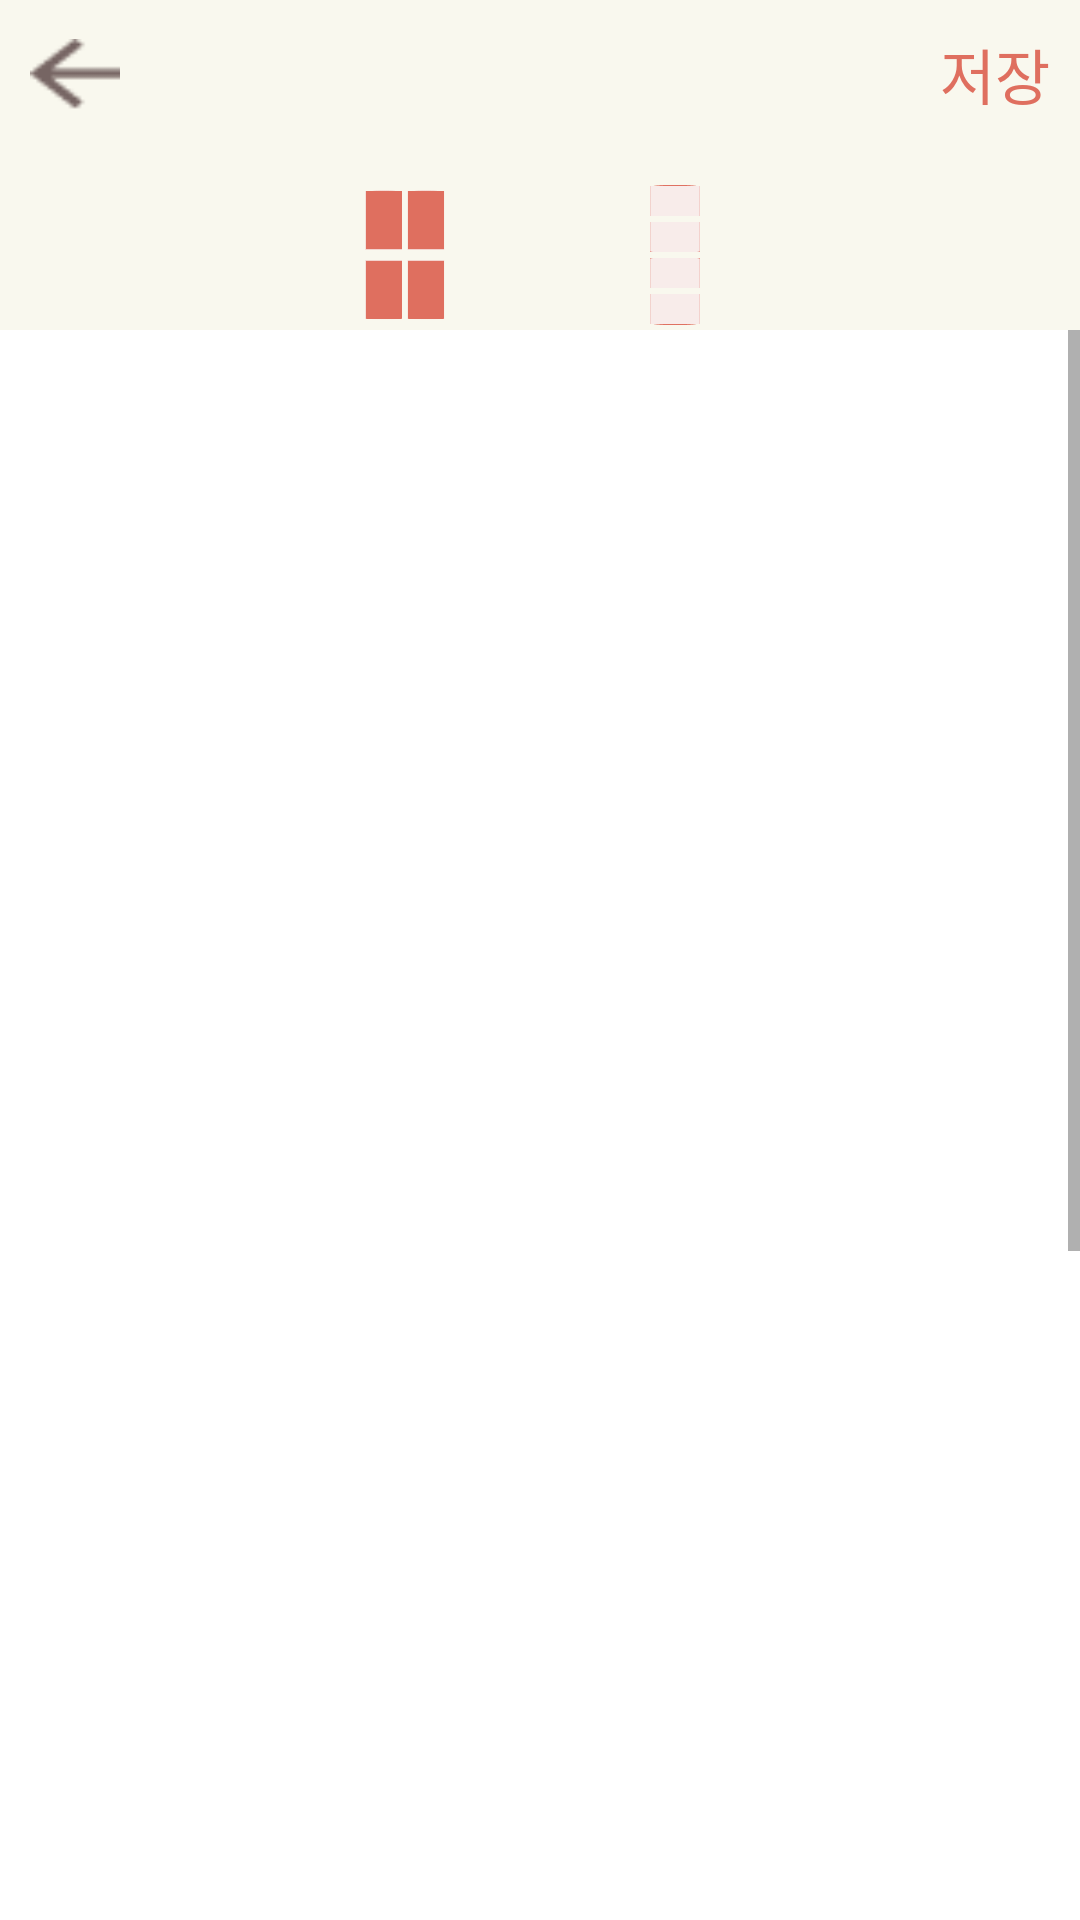

Where icons sit on this 1080 × 1920 app screen, as (x1, y1, x2, y2):
backarrow: (30, 39, 120, 109)
